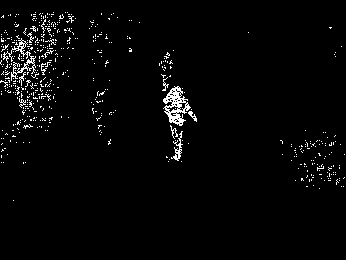person: (162, 85, 198, 164)
